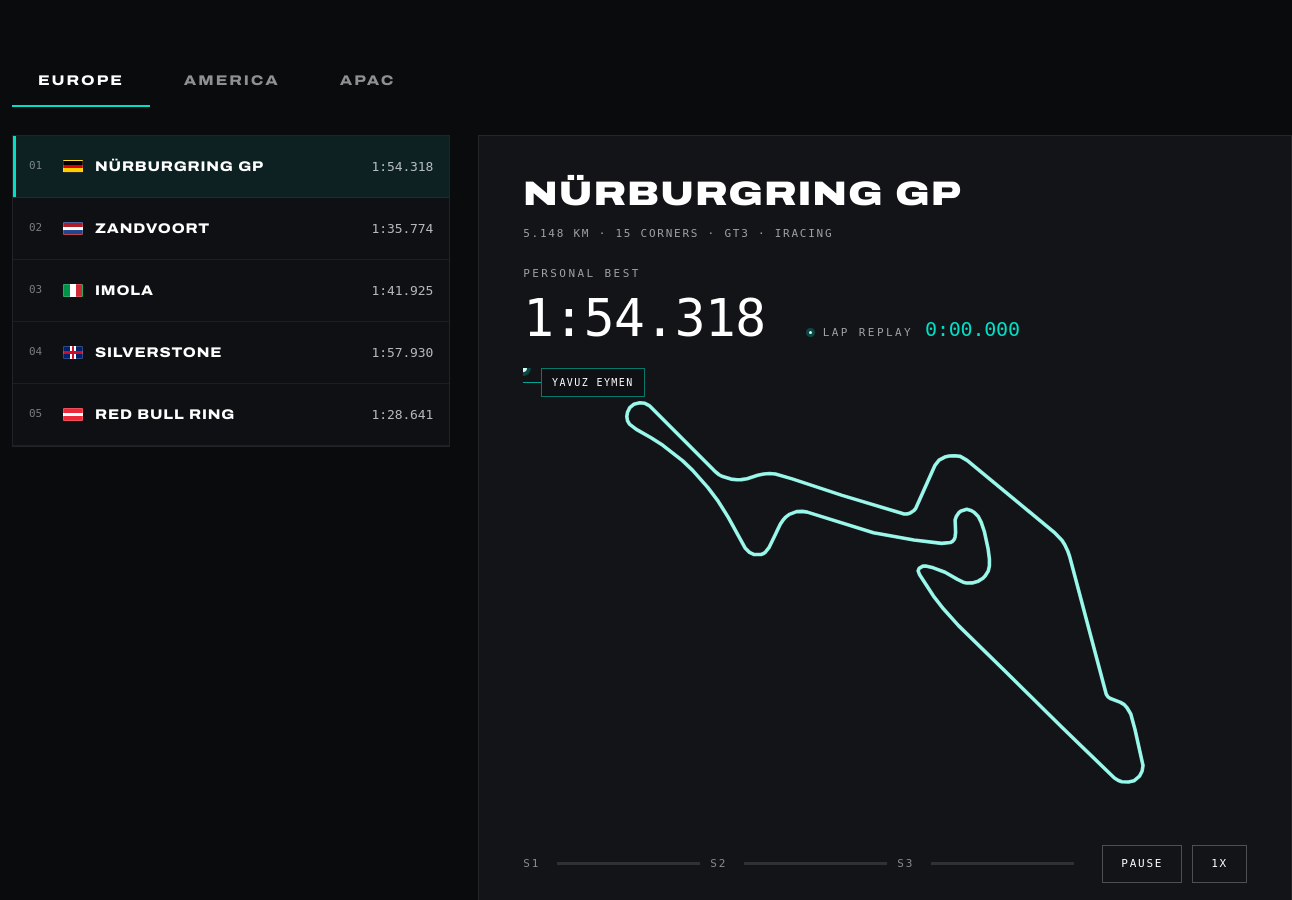
Test: TrackRecords › circuit list › selecting Zandvoort shows it in the panel and marks it current
Click the button "EUROPE" at (81, 82), box [12,56,150,107]
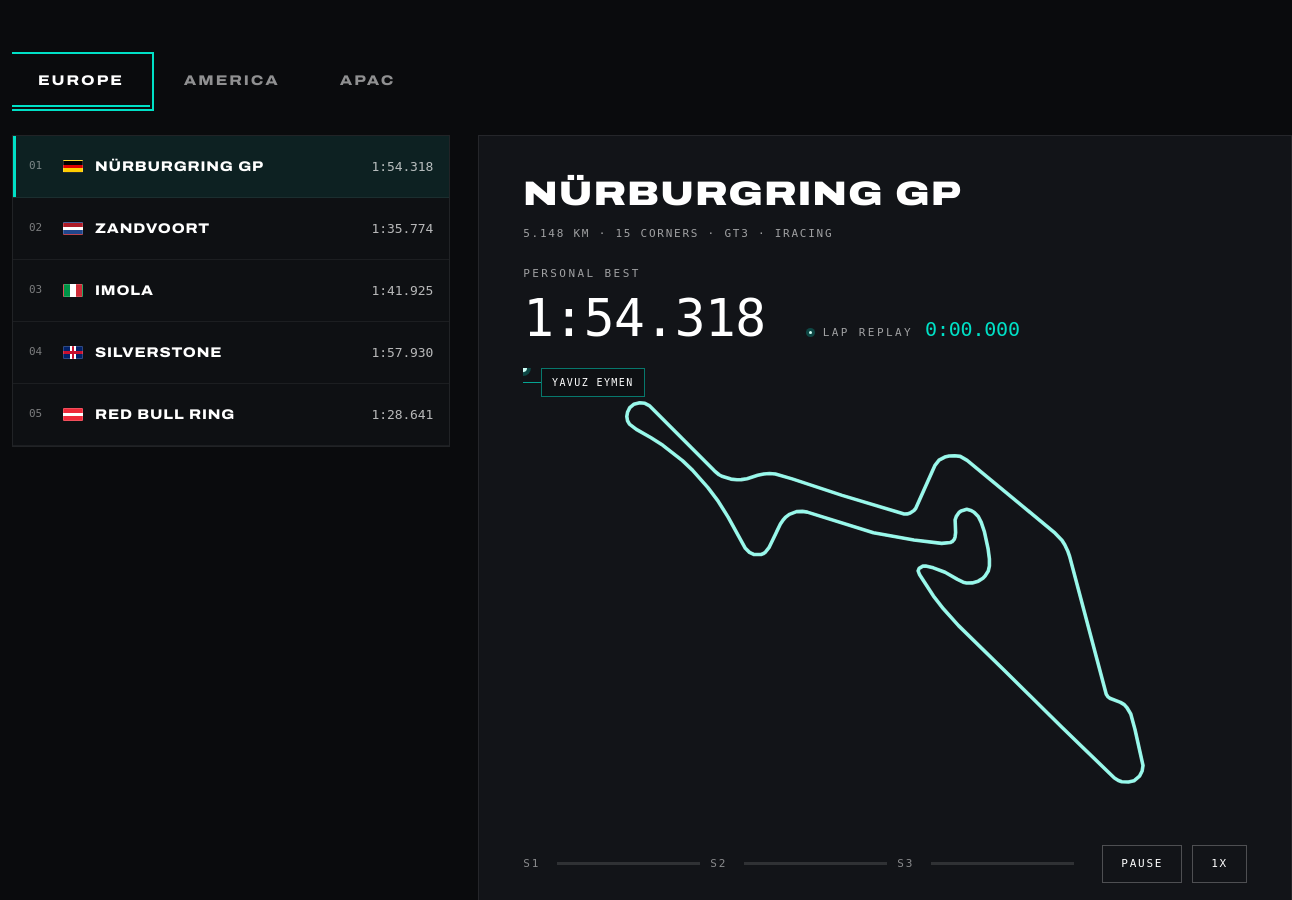
Click the button "02 Zandvoort 1:35.774" at (153, 228), box [13,198,449,260]
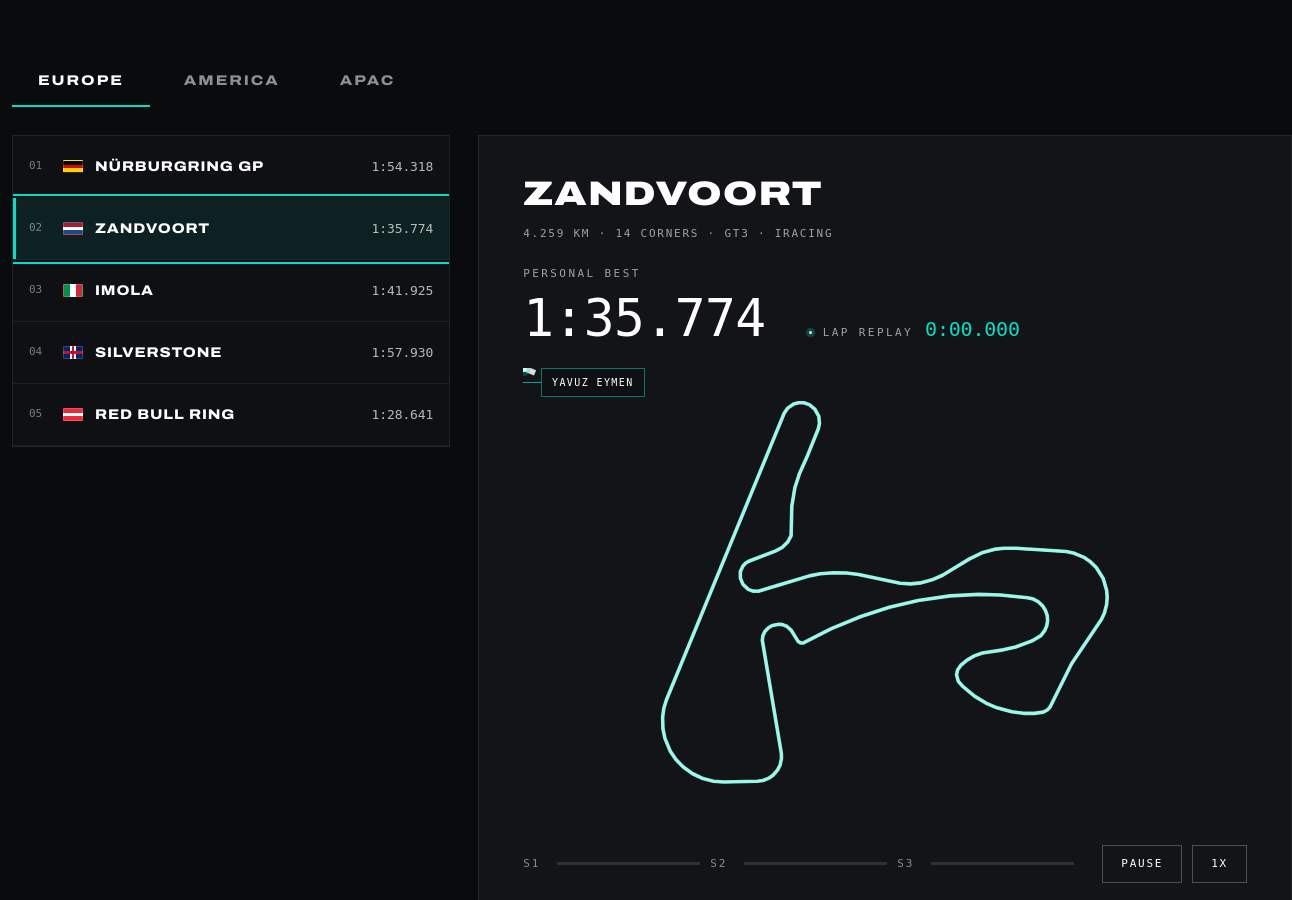
expect the heading "Zandvoort" is shown: met, box [523,175,823,212]
